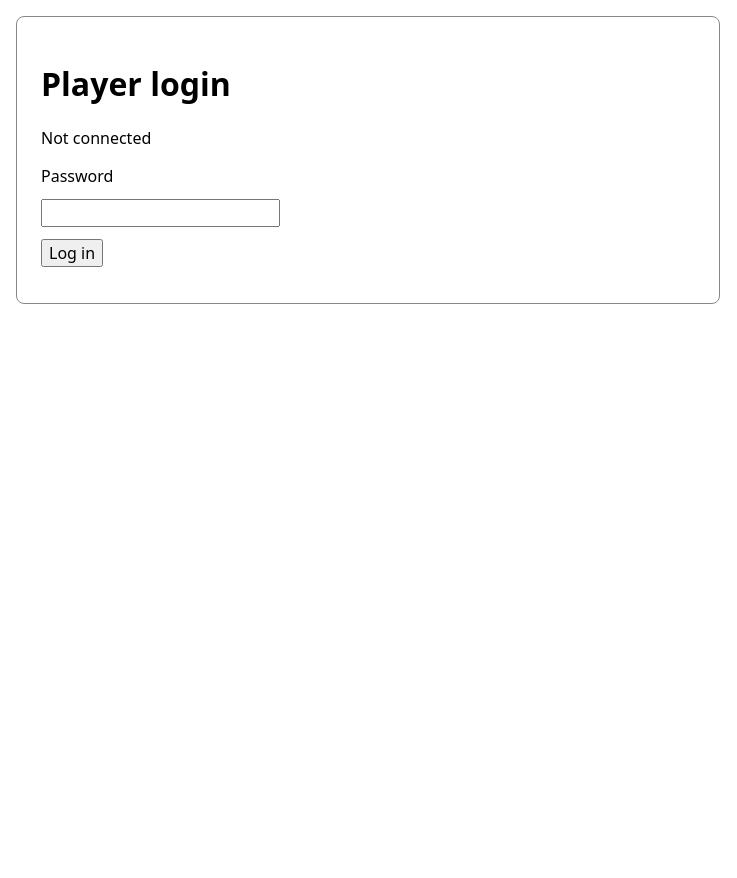
Test: player login and session bootstrap › requests an authoritative snapshot after socket reconnect and exposes disconnect state
The image size is (737, 878).
Later steps or results of the test are not shown.
Type "never-persist-this" into the password field named "password" at x=160, y=213, box [41, 199, 280, 227]
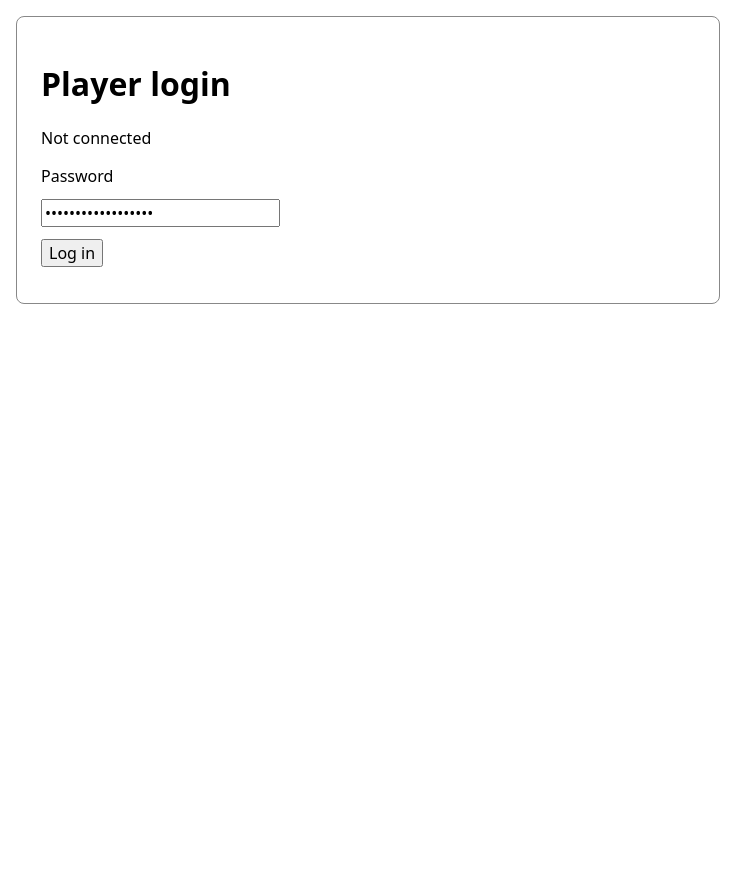
Submit the form, box [41, 165, 280, 267]
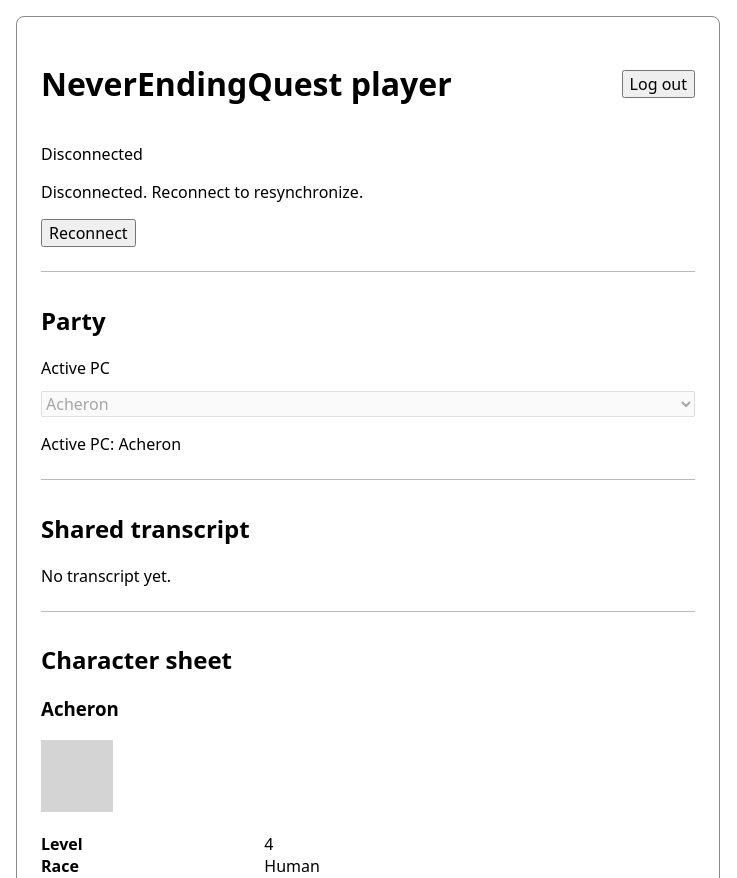
Expected: the text "Disconnected" is shown, [41, 143, 143, 165]
Expected: the button "Reconnect" is shown, [41, 219, 136, 247]
